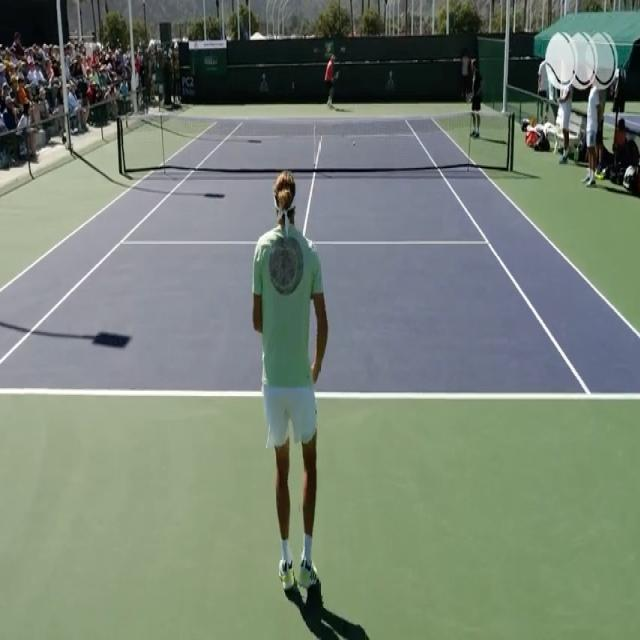ready-position: (252, 172, 332, 605)
